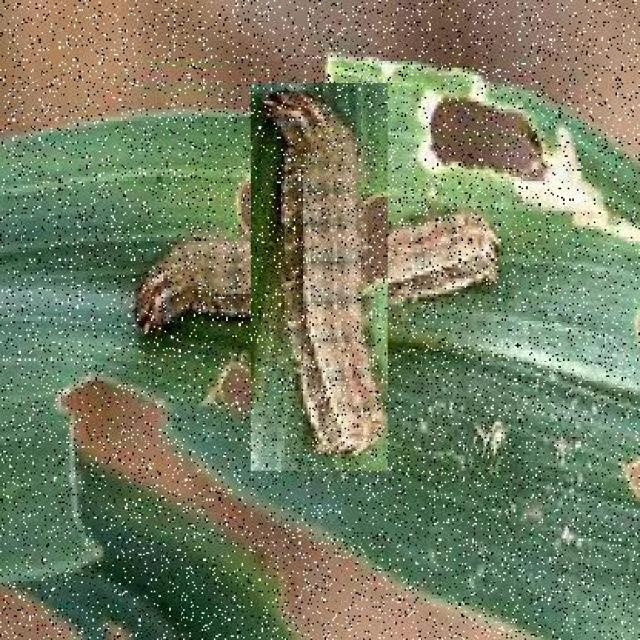Plaga: (189, 146, 453, 410)
